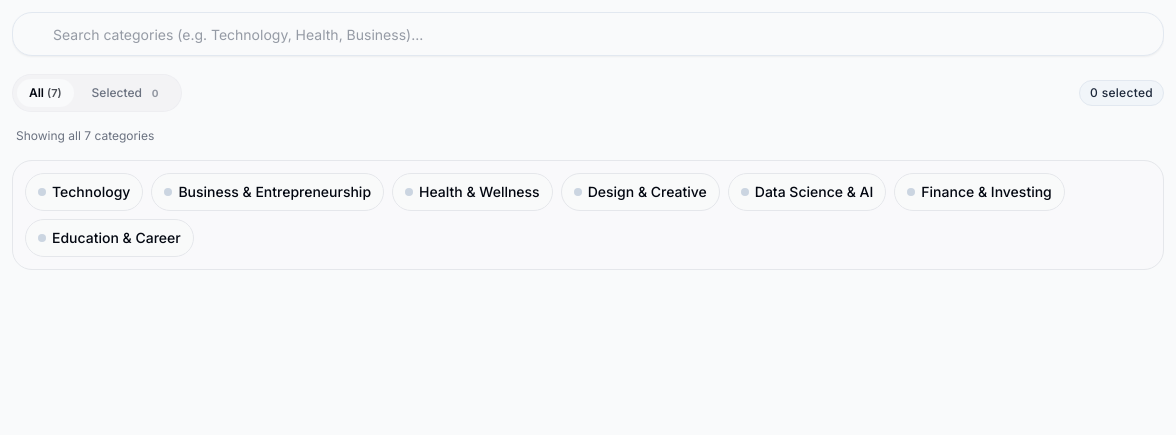
Scenario: CategorySelector Component Integration › shows clear no-results state with a reset button when no categories match
The image size is (1176, 435).
Type "ZzzNonExistentCategory999" into the field labelled "Search categories (e.g. Technology, Health, Business)..." at [588, 34], box [12,12,1164,56]
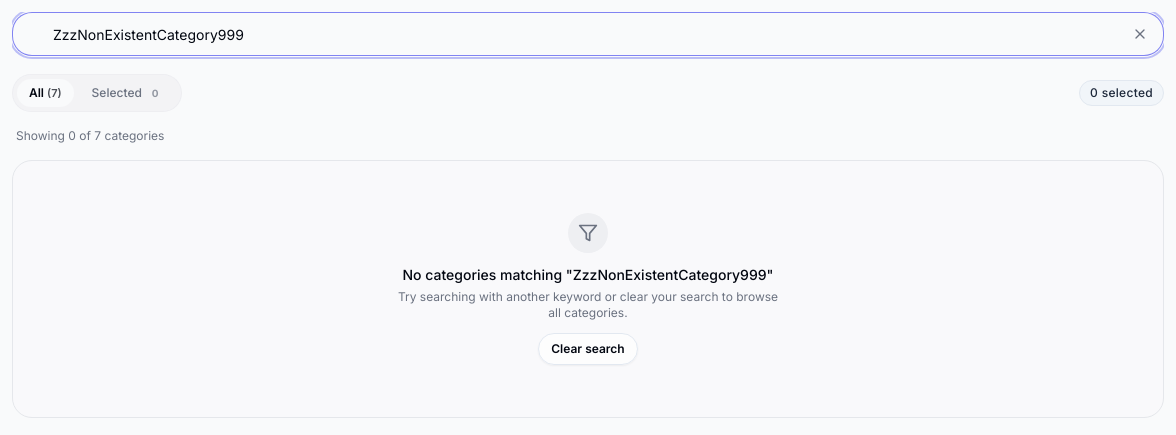
Result: the message is shown at [398,213,778,365]
Result: the text "No categories matching \"ZzzNonExistentCategory999\"" is shown at [402,266,774,283]
Click the button "Clear search" at [588, 349], box [538,333,638,365]
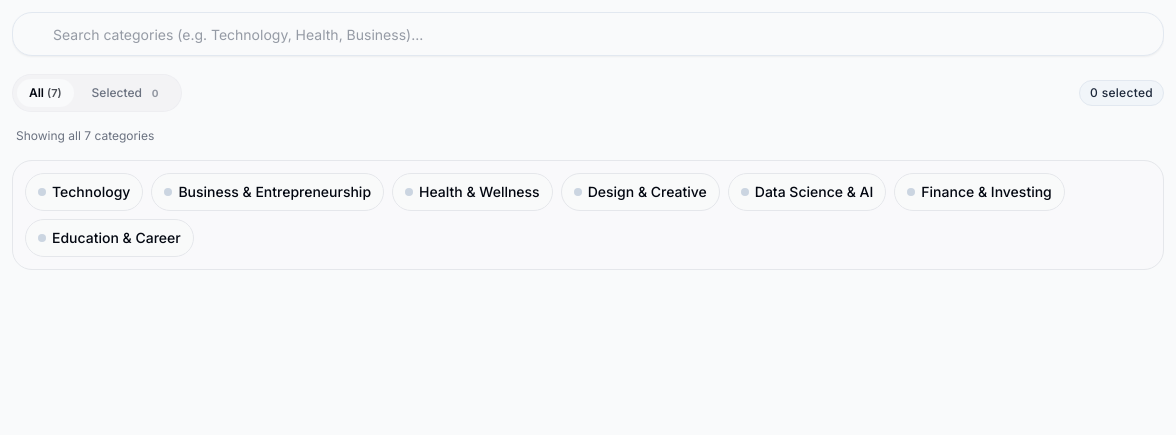
Result: the text "Technology" is shown at [52,182,130,202]
